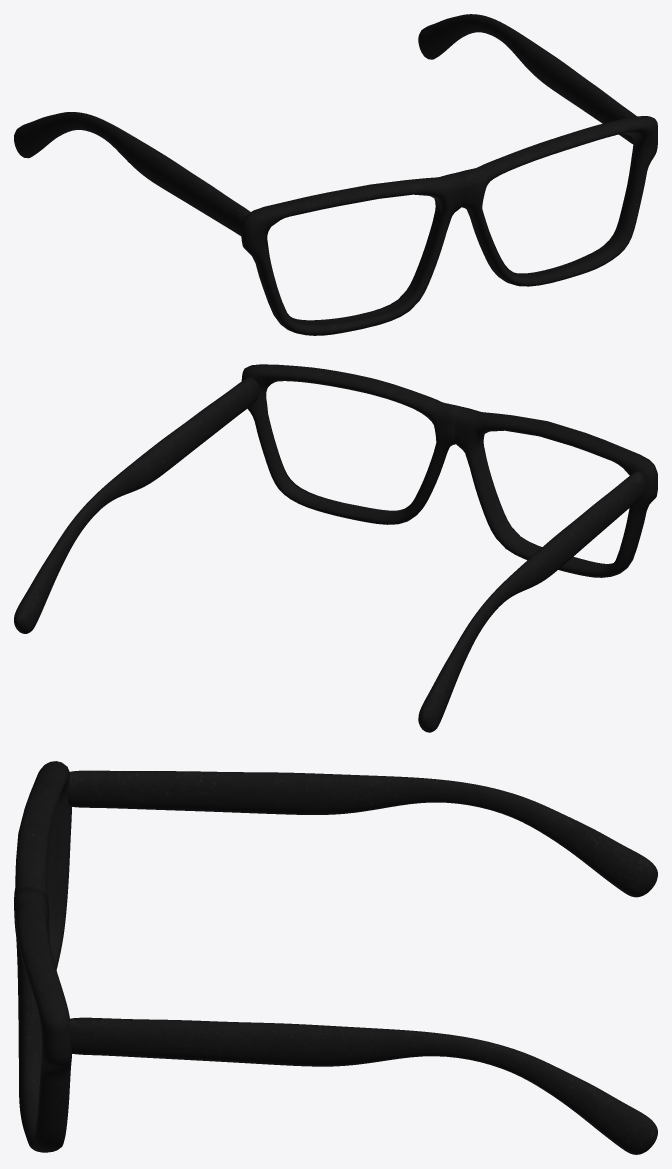
3 renders of one model, top to bottom at view 1: azimuth 30°, elevation 25°; view 2: azimuth 150°, elevation 25°; view 3: azimuth 270°, elevation 25°, orthographic. The views are drawn at different scales.
Visible parts, largest first — view 1: Base_1, Temples_0; view 2: Base_1, Temples_0; view 3: Temples_0, Base_1.
Boxes of the visible parts, bbox=[...] form: Base_1: bbox=[241, 116, 657, 335]; Temples_0: bbox=[14, 14, 636, 235]; Base_1: bbox=[241, 364, 657, 577]; Temples_0: bbox=[14, 377, 645, 732]; Temples_0: bbox=[67, 770, 657, 1154]; Base_1: bbox=[14, 761, 71, 1152].
Size of what is drawn, in the model's own units: 1.72 by 0.5464 by 1.75.
Materials: 1 (1 with a texture image).
